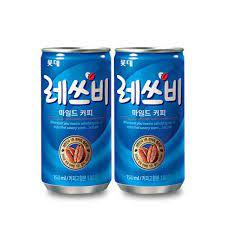letsbe: (113, 46, 186, 196), (40, 47, 112, 196)
